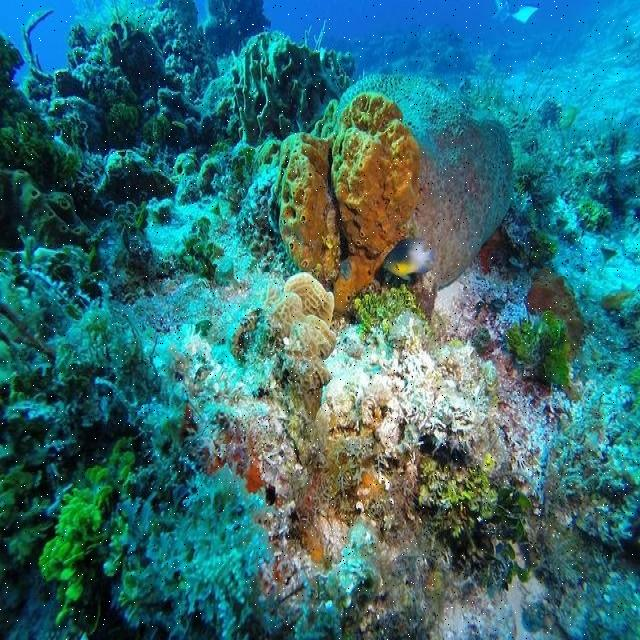fish: (334, 245, 395, 312), (383, 235, 438, 282)
reefs: (0, 225, 382, 639), (0, 0, 358, 302), (338, 74, 515, 291), (279, 91, 421, 290), (268, 272, 354, 424)
